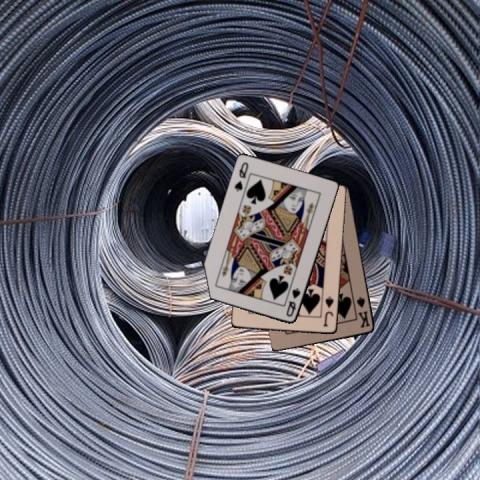Js: (320, 293, 335, 328)
Ks: (354, 294, 371, 329)
Qs: (283, 285, 302, 319), (231, 159, 250, 193)
